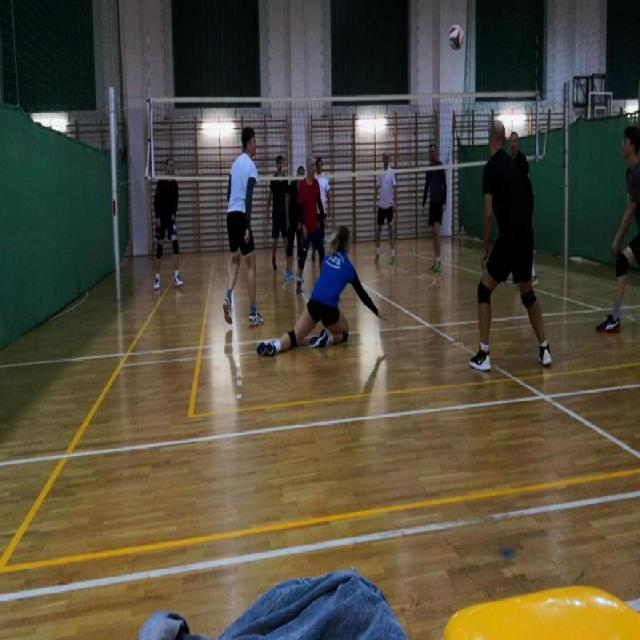volleyball: (448, 24, 464, 49)
